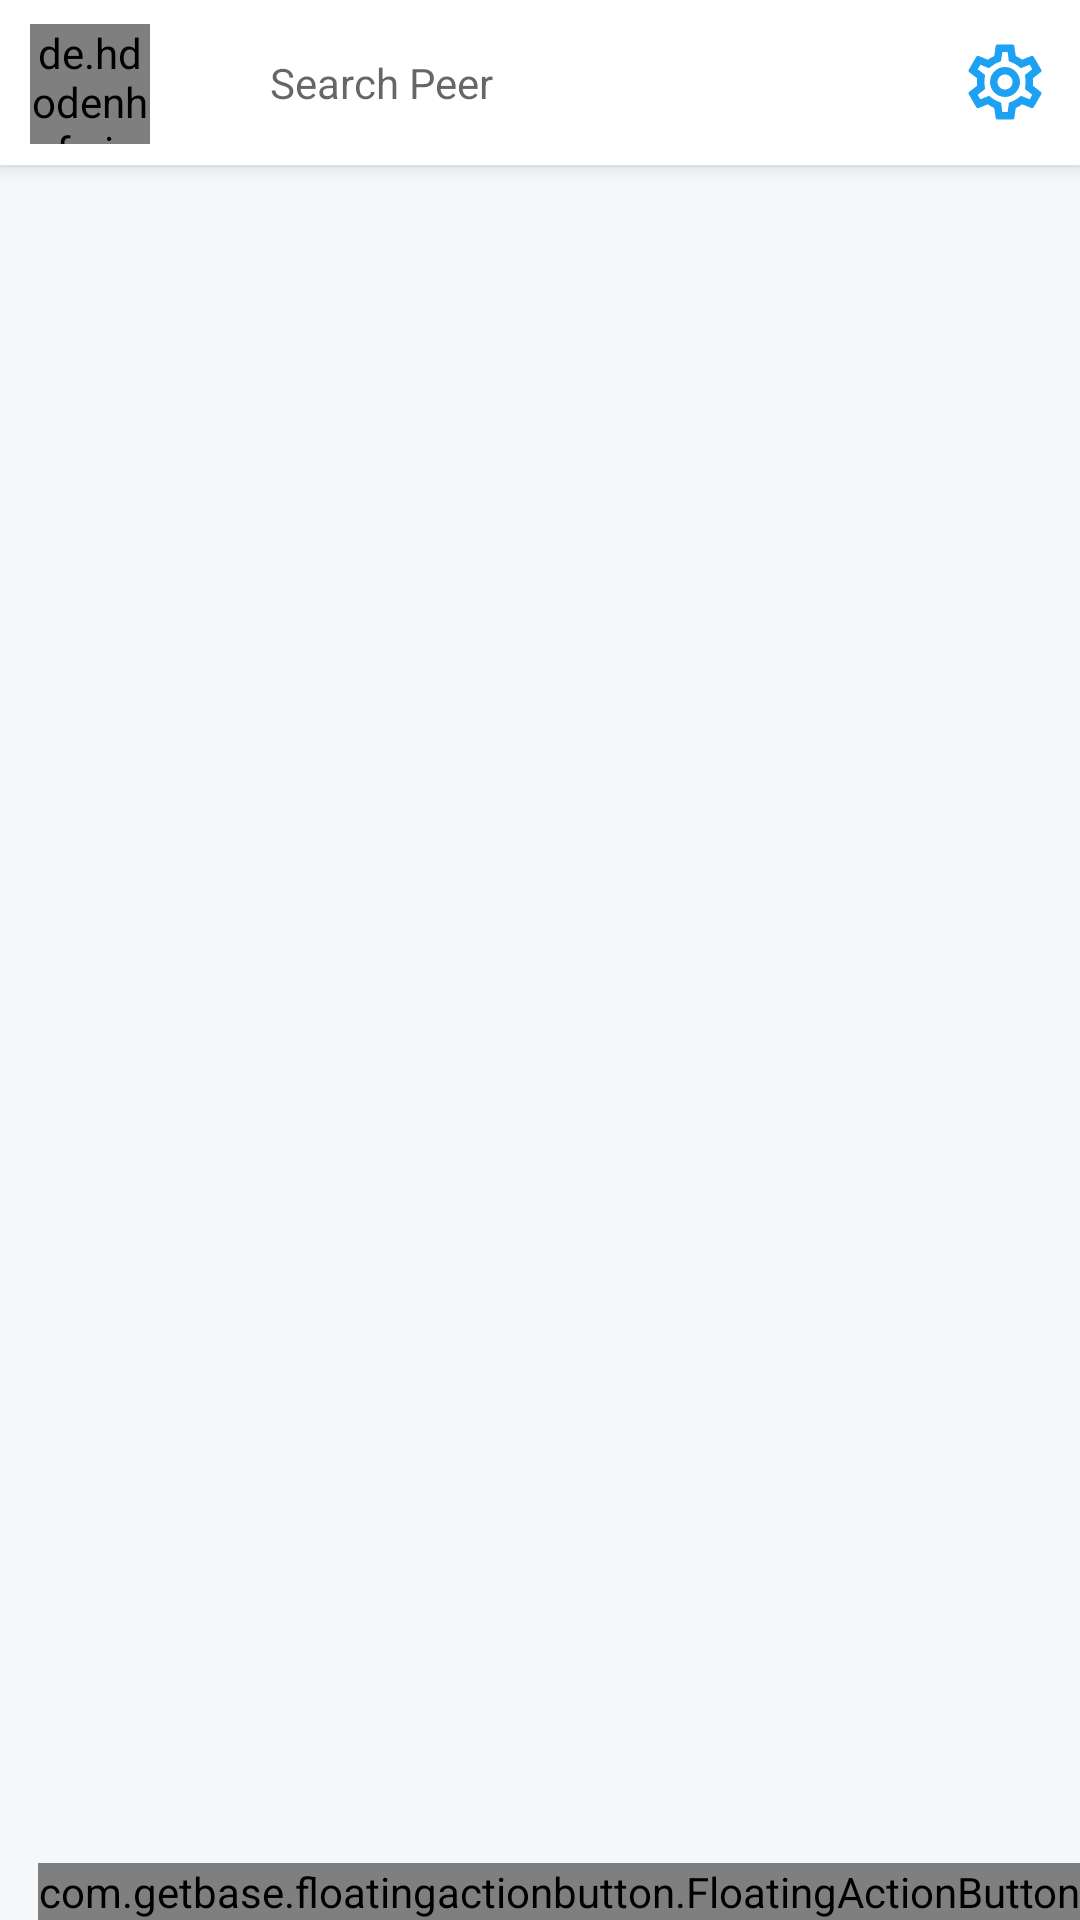

Point at icon controls on the screen. Image size 1080 × 1920, points as (x=x, y=y).
settings: (x=1005, y=82)
